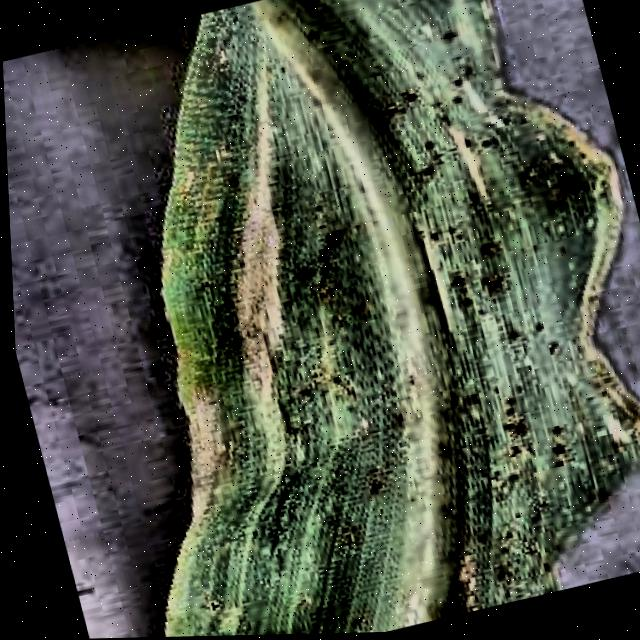blight: (20, 0, 640, 640)
